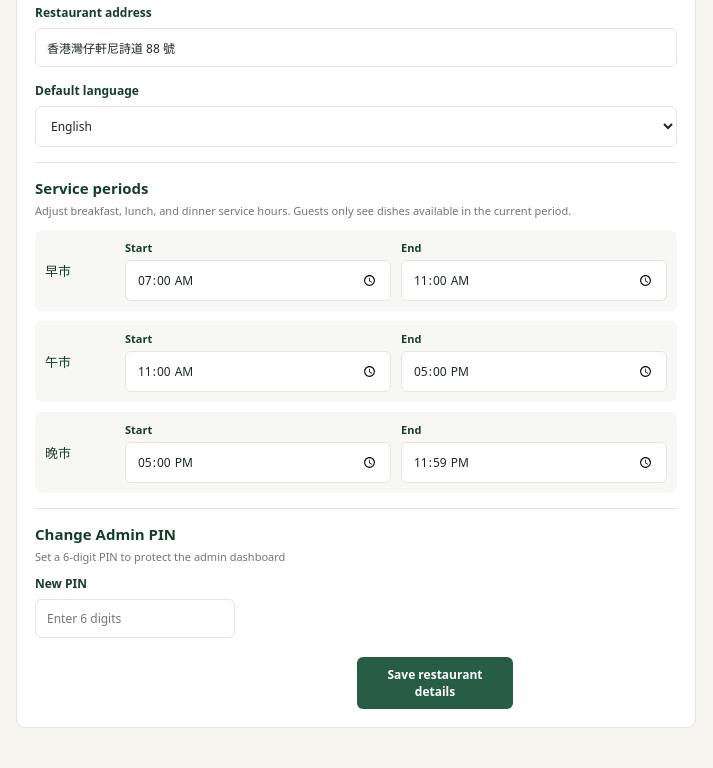
Scenario: RestaurantSettings › does not save an invalid admin PIN
(page scrolled)
Type "12345" into the password field labelled "New PIN" at (135, 619), box left=35, top=599, right=235, bottom=638
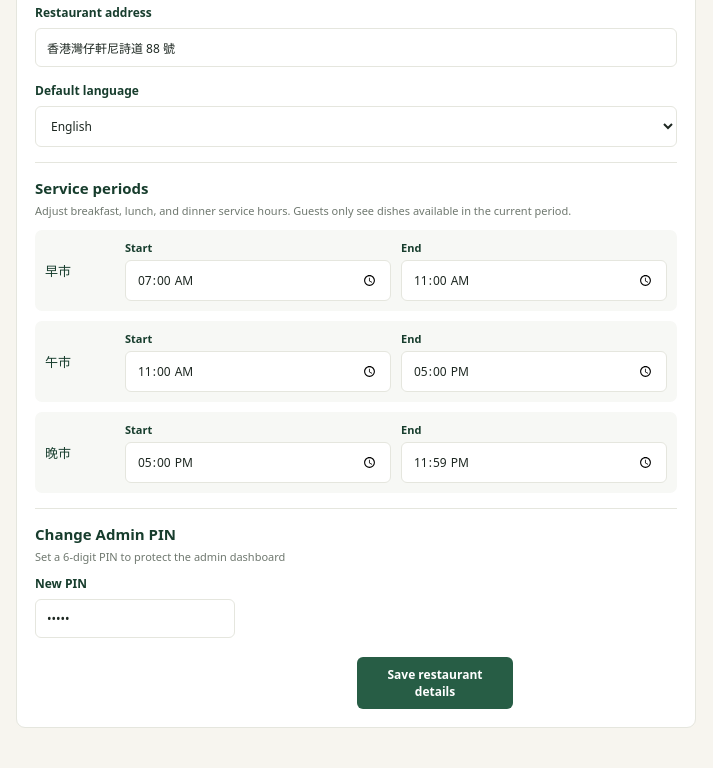
Click the button "Save restaurant details" at (435, 683), box left=357, top=657, right=513, bottom=709
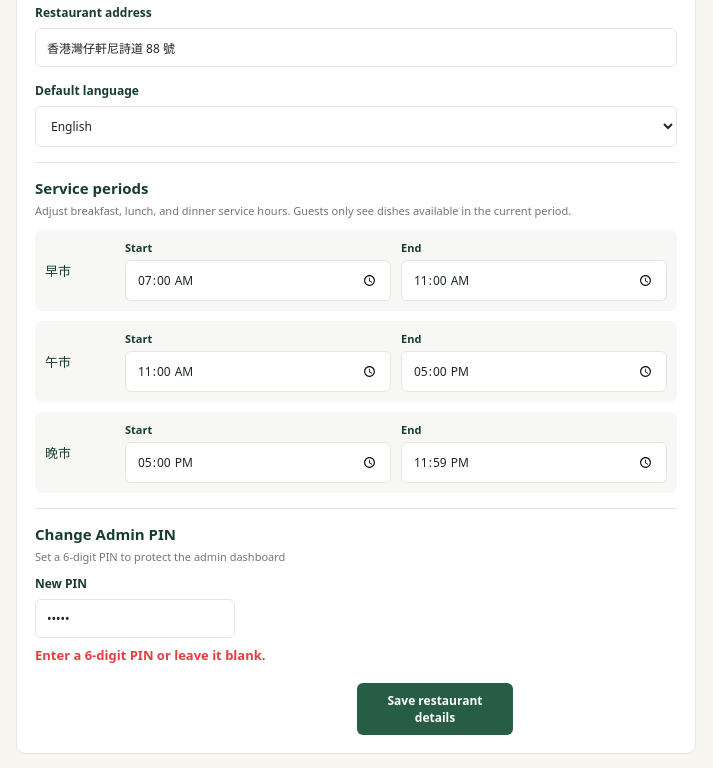
Expected: the text "Enter a 6-digit PIN or leave it blank." is shown, left=35, top=646, right=266, bottom=664
